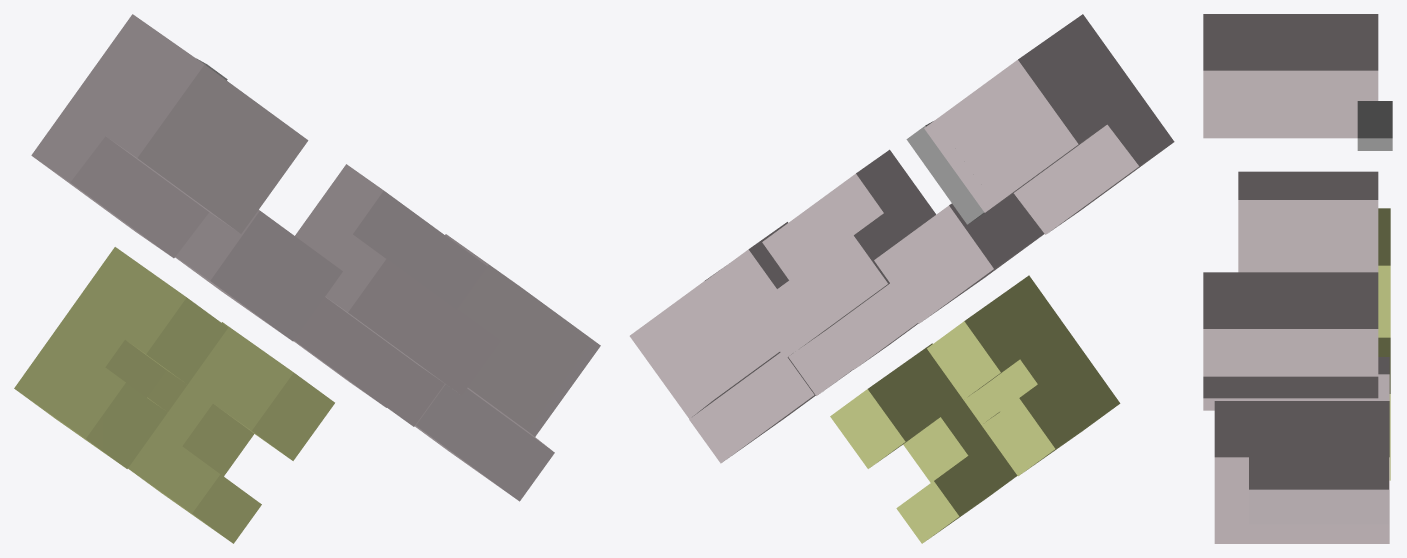
3 views of the same model, side by side, from view 1: azimuth 30°, elevation 25°; view 2: azimuth 150°, elevation 25°; view 3: azimuth 270°, elevation 25° (orthographic). The views are drawn at different scales.
Parts seen in each view (by area): view 1: 0_2_3_2_2_0_2_1_3; view 2: 0_2_3_2_2_0_2_1_3; view 3: 0_2_3_2_2_0_2_1_3.
Part boxes in pixels (x1,y1,x2,y2): 0_2_3_2_2_0_2_1_3: (14, 14, 600, 543); 0_2_3_2_2_0_2_1_3: (629, 14, 1174, 543); 0_2_3_2_2_0_2_1_3: (1203, 14, 1392, 543).
Size of the model in its own units: 41.94 by 41.55 by 16.23.
